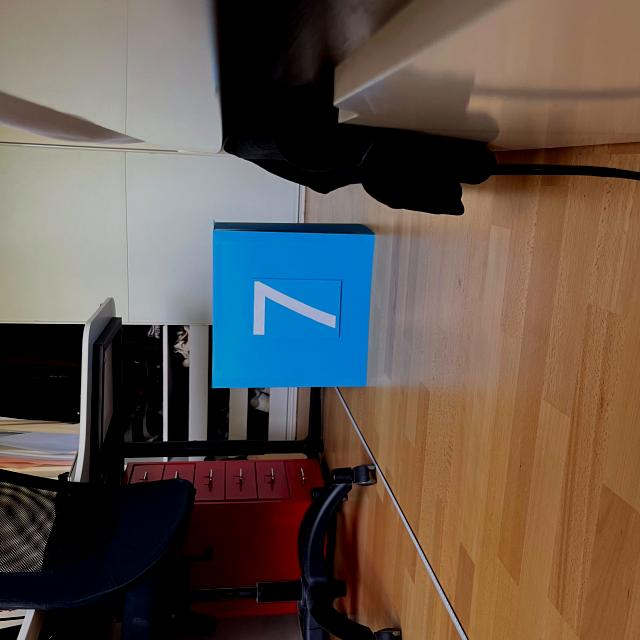box: (207, 218, 378, 390)
